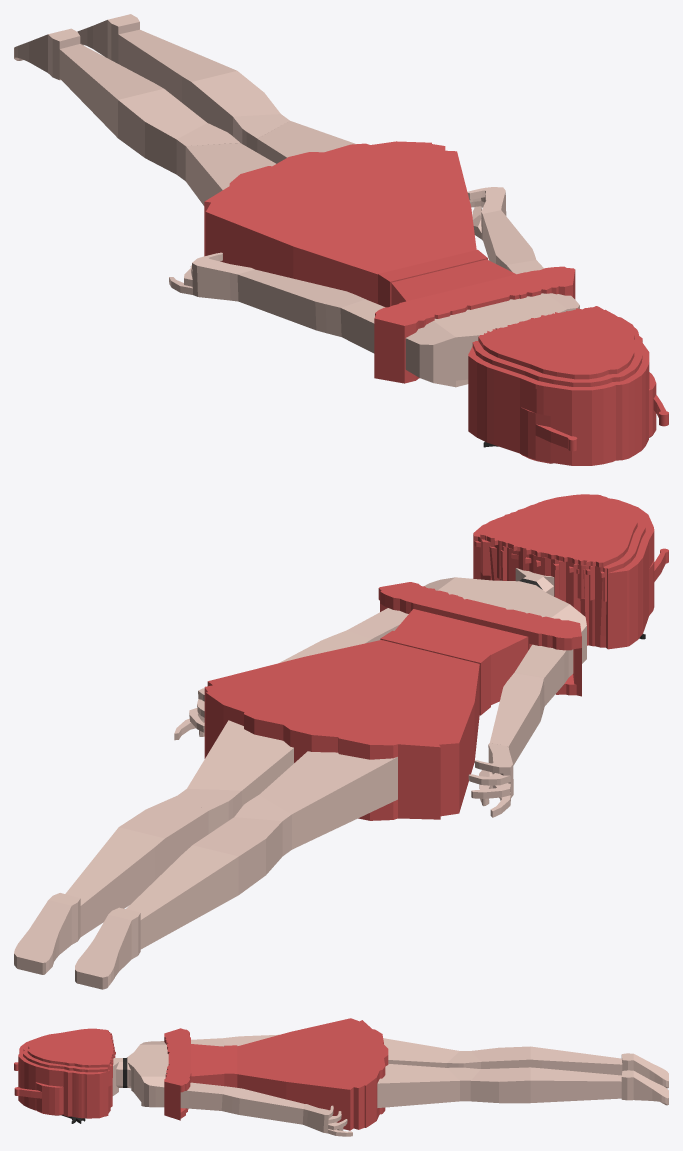
The model's file is Emollie.fbx.
The picture shows the model from 3 angles, top to bottom: view 1: azimuth 30°, elevation 25°; view 2: azimuth 150°, elevation 25°; view 3: azimuth 270°, elevation 25°; orthographic projection. The views are drawn at different scales.
Visible parts, largest first — view 1: Body14, Body159, Body203, Body65, Body142, Body139, Body7, Body73, Body136, Body53, Body24, Body137 (+7 smaller); view 2: Body14, Body159, Body203, Body53, Body65, Body139, Body7, Body137, Body142, Body51, Body52, Body136 (+5 smaller); view 3: Body14, Body159, Body73, Body203, Body137, Body7, Body136, Body139, Body53, Body51, Body142, Body52 (+7 smaller).
Part boxes in pixels (box(x1,y1,x2,y2)): Body14: box(204, 141, 575, 383); Body159: box(468, 317, 668, 465); Body203: box(472, 306, 642, 386); Body65: box(169, 252, 385, 353); Body142: box(118, 88, 206, 174); Body139: box(59, 44, 163, 137); Body7: box(118, 29, 236, 109); Body73: box(467, 187, 543, 274); Body136: box(191, 71, 280, 135); Body53: box(185, 143, 275, 205); Body24: box(405, 321, 455, 387); Body137: box(257, 121, 356, 163); Body14: box(204, 582, 581, 820); Body159: box(473, 505, 668, 649); Body203: box(474, 494, 645, 572); Body53: box(259, 751, 397, 849); Body65: box(468, 644, 573, 817); Body139: box(126, 845, 238, 949); Body7: box(65, 827, 164, 936); Body137: box(187, 720, 293, 806); Body142: box(193, 817, 282, 894); Body51: box(14, 893, 80, 974); Body52: box(75, 907, 140, 989); Body136: box(119, 795, 208, 870); Body14: box(164, 1018, 388, 1130); Body159: box(14, 1041, 118, 1118); Body73: box(180, 1082, 352, 1136); Body203: box(23, 1028, 114, 1072); Body137: box(377, 1064, 459, 1107); Body7: box(530, 1067, 621, 1102); Body136: box(470, 1067, 530, 1103); Body139: box(530, 1046, 622, 1075); Body53: box(383, 1038, 459, 1067); Body51: box(621, 1070, 668, 1105); Body142: box(471, 1046, 530, 1068); Body52: box(621, 1053, 668, 1088).
Bounding box in the file's own units: 15.2 × 4 × 45.61.
